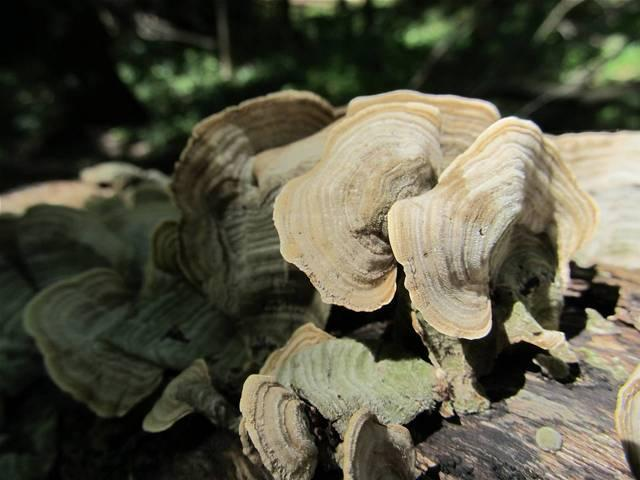poisonous_mushroom: (12, 88, 500, 426), (259, 114, 640, 480)
